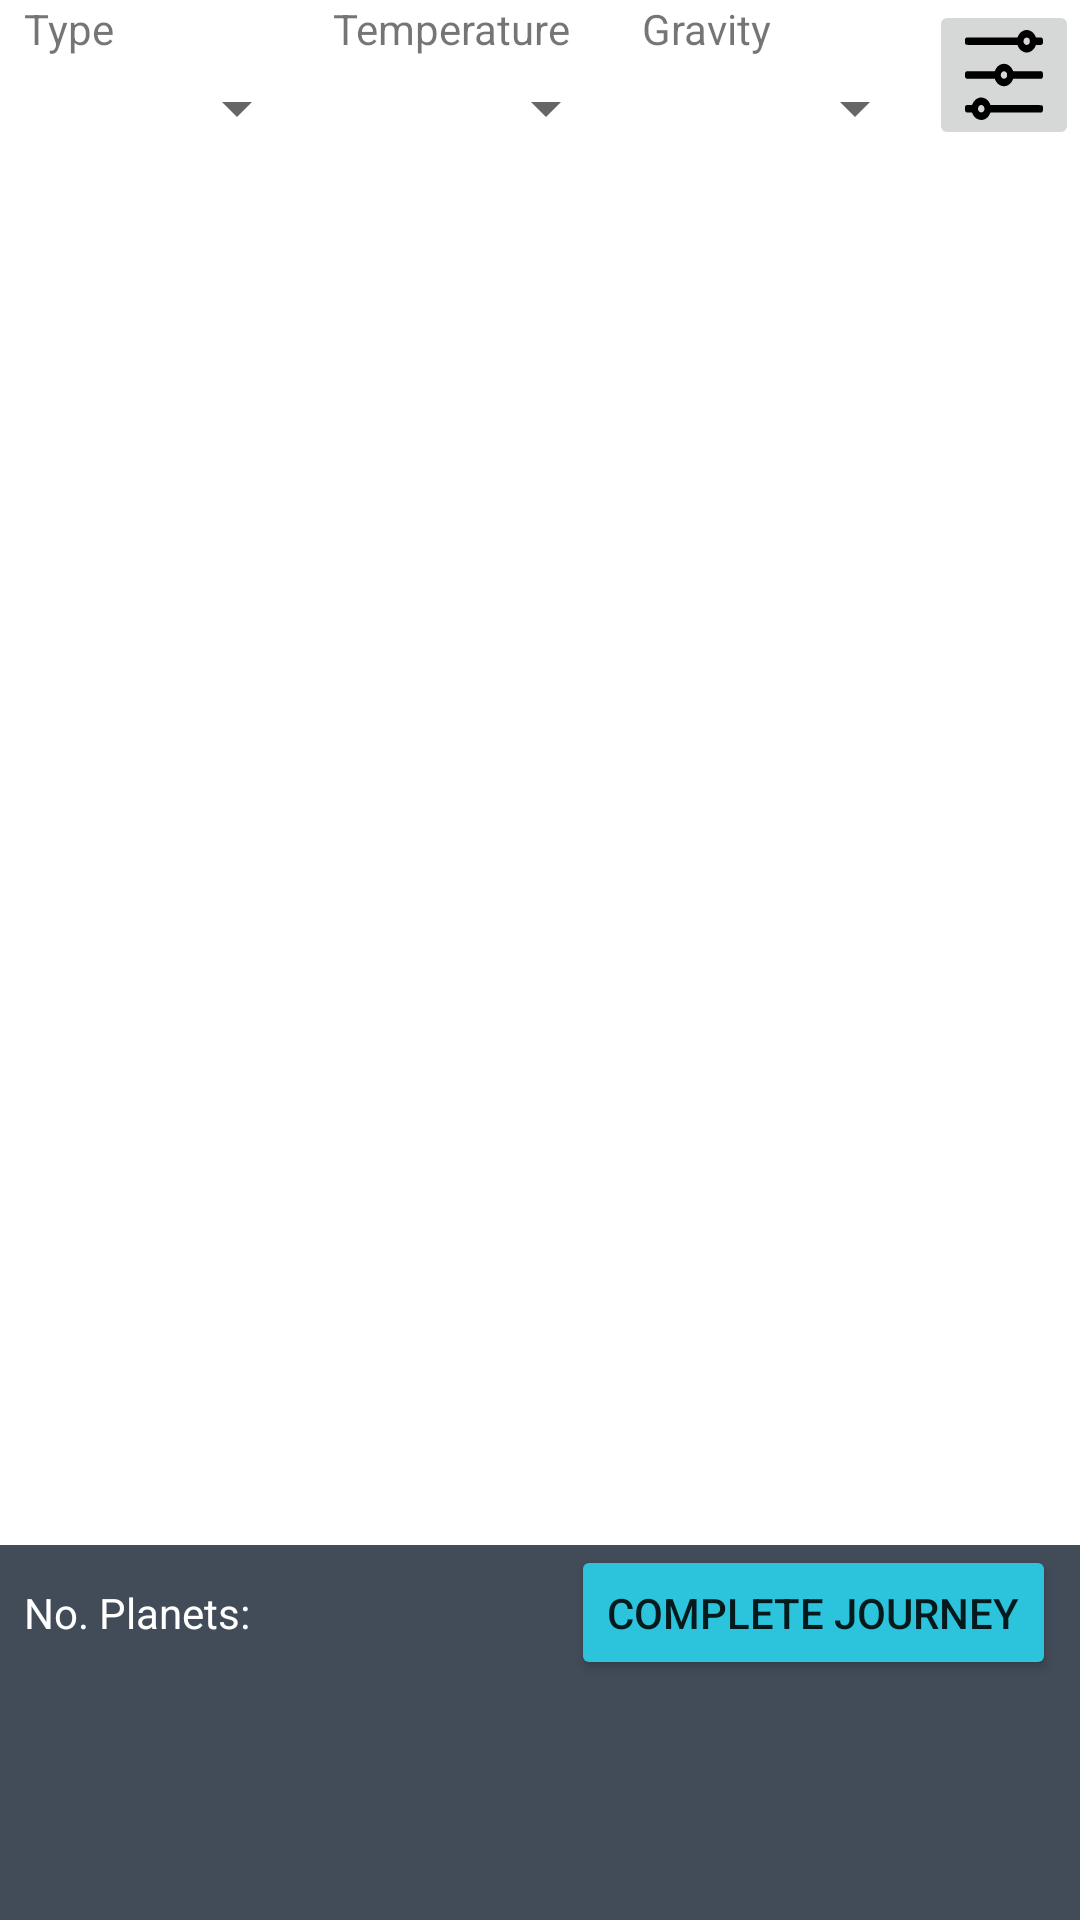

Point at icon controls on the screen. Image size 1080x1920, points as (x,y).
Apply Filters: (1004,75)
